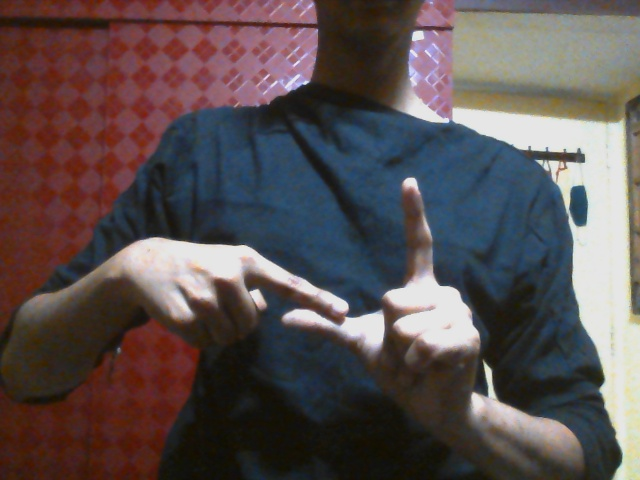J: (162, 177, 481, 390)
